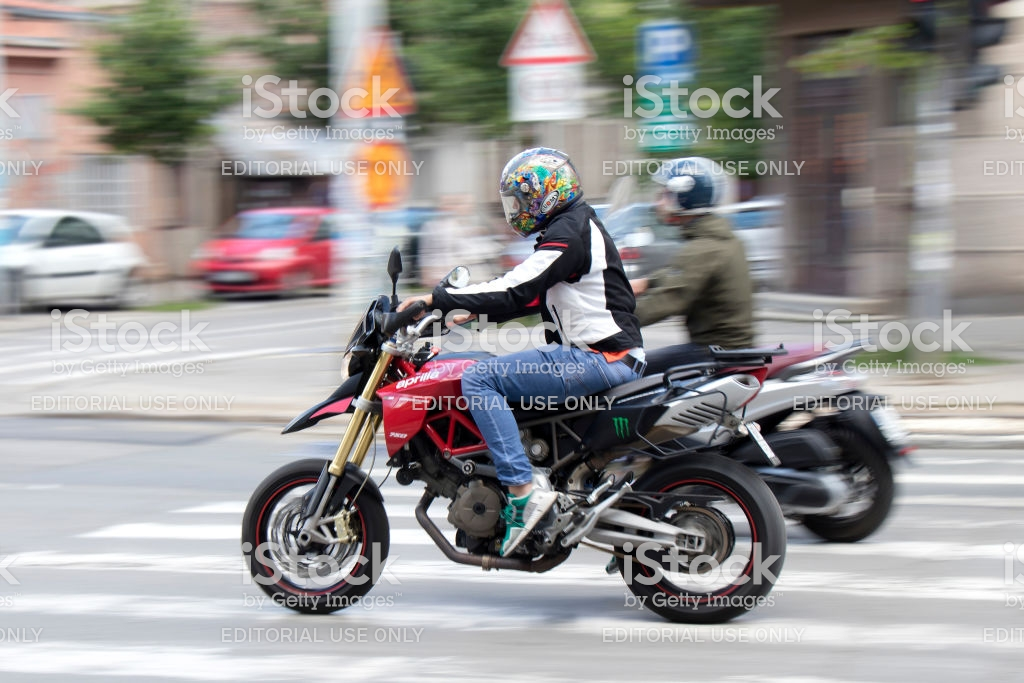helmet: (492, 148, 578, 221)
